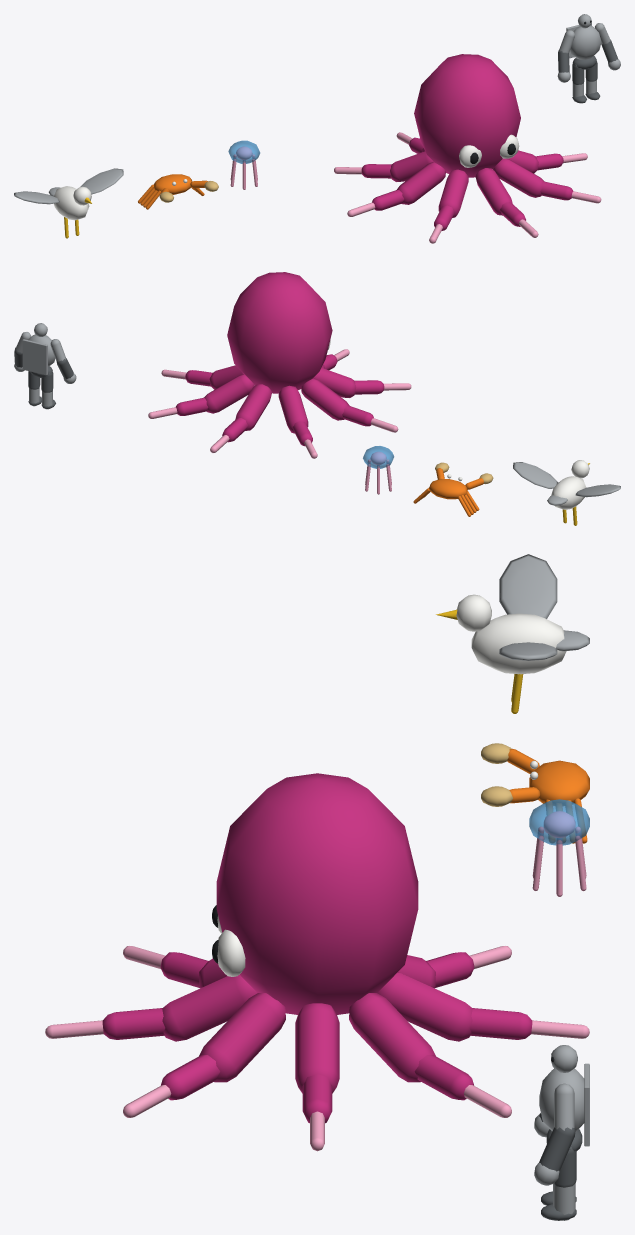
The model's file is brightharbour.glb.
3 views of the same model, one above another, from view 1: azimuth 30°, elevation 25°; view 2: azimuth 150°, elevation 25°; view 3: azimuth 270°, elevation 25° (orthographic). The views are drawn at different scales.
Visible parts, largest first — view 1: head, body (×2), arm_5_1, arm_2_1, arm_3_1, torso, arm_4_1, arm_6_1, wing_L, bell, arm_2_2, arm_5_2 (+7 smaller); view 2: head, body (×2), torso, arm_5_1, arm_8_1, arm_7_1, arm_6_1, arm_4_1, wing_L, bell, arm_1_1, arm_8_2 (+5 smaller); view 3: head (×2), body (×2), arm_2_1, arm_8_1, arm_7_1, arm_3_1, arm_1_1, wing_R, bell, torso, arm_3_2, arm_7_2 (+11 smaller).
Boxes of the visible parts, left/top/right/bottom form: head: left=414, top=54, right=520, bottom=177; body (×2): left=48, top=174, right=192, bottom=220; arm_5_1: left=397, top=162, right=445, bottom=204; arm_2_1: left=493, top=158, right=544, bottom=197; arm_3_1: left=475, top=168, right=512, bottom=215; torso: left=566, top=23, right=601, bottom=59; arm_4_1: left=438, top=169, right=468, bottom=217; arm_6_1: left=390, top=151, right=433, bottom=181; wing_L: left=80, top=168, right=123, bottom=194; bell: left=228, top=140, right=260, bottom=163; arm_2_2: left=540, top=181, right=573, bottom=200; arm_5_2: left=372, top=189, right=404, bottom=210; head: left=227, top=272, right=332, bottom=393; body (×2): left=429, top=474, right=586, bottom=509; torso: left=22, top=334, right=55, bottom=375; arm_5_1: left=301, top=378, right=349, bottom=420; arm_8_1: left=204, top=374, right=254, bottom=413; arm_7_1: left=235, top=384, right=271, bottom=430; arm_6_1: left=278, top=385, right=308, bottom=433; arm_4_1: left=313, top=367, right=356, bottom=397; wing_L: left=513, top=462, right=558, bottom=488; bell: left=363, top=446, right=394, bottom=468; arm_1_1: left=209, top=365, right=243, bottom=389; arm_8_2: left=176, top=397, right=208, bottom=415; head (×2): left=212, top=594, right=491, bottom=1014; body (×2): left=471, top=613, right=589, bottom=805; arm_2_1: left=199, top=993, right=285, bottom=1082; arm_8_1: left=349, top=993, right=435, bottom=1082; arm_7_1: left=377, top=972, right=472, bottom=1041; arm_3_1: left=162, top=974, right=257, bottom=1041; arm_1_1: left=295, top=1003, right=339, bottom=1093; wing_R: left=499, top=554, right=557, bottom=618; bell: left=529, top=799, right=589, bottom=845; torso: left=539, top=1063, right=589, bottom=1146; arm_3_2: left=102, top=1008, right=165, bottom=1039; arm_7_2: left=469, top=1008, right=532, bottom=1039.
Bounding box in the file's own units: 131 × 27.1 × 51.39.
